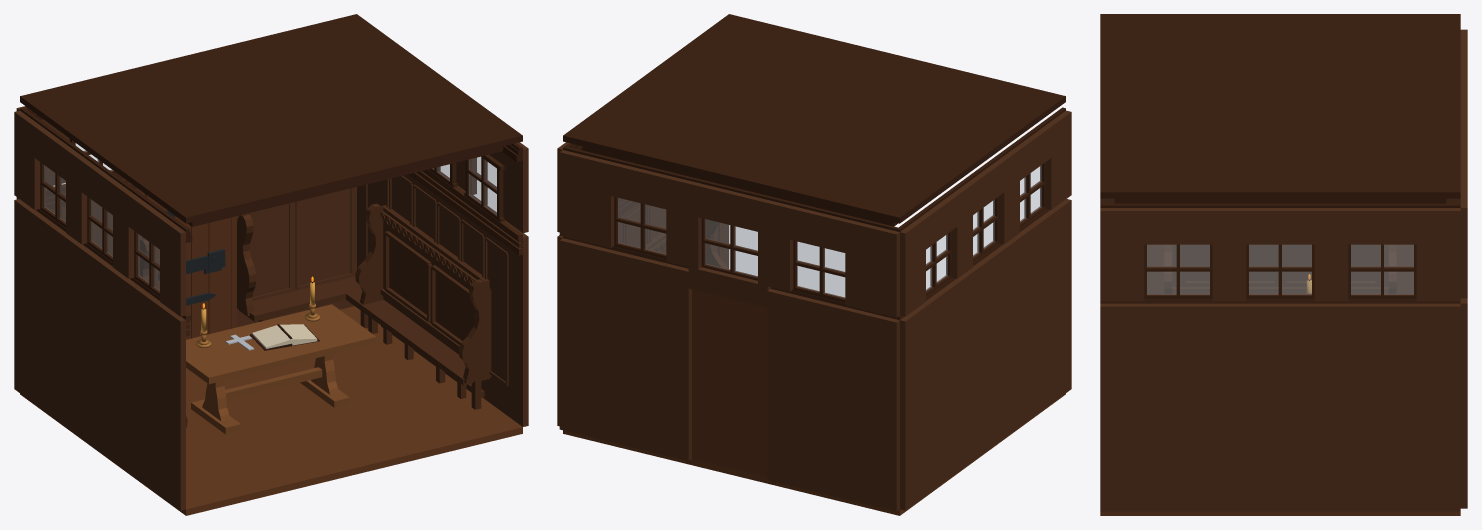
The model's file is realm-mvp-sanctuary-v1-raw-r2.glb.
3 views of the same model, side by side, from view 1: azimuth 30°, elevation 25°; view 2: azimuth 150°, elevation 25°; view 3: azimuth 270°, elevation 25° (orthographic). The views are drawn at different scales.
Parts seen in each view (by area): view 1: HF01_Ceiling__CeilingBase, HF01_RoomShell__Wall_West_Lower, HF01_Floor__Floor, HF01_RoomShell__Wall_East_Lower, HF01_RoomShell__NorthLower_East, HF01_RoomShell, HF01_PrayerTable__Table_Top, HF01_RoomShell__WestUpperHeader, HF01_BenchRight__Bench_East_Backboard, HF01_DoorStaticWorld__Door_North_Slab, HF01_Ceiling, HF01_BenchRight__Bench_East_Seat (+19 smaller); view 2: HF01_Ceiling__CeilingBase, HF01_RoomShell__Wall_West_Lower, HF01_RoomShell__NorthLower_West, HF01_RoomShell__NorthLower_East, HF01_RoomShell, HF01_DoorStaticWorld__Door_North_Slab, HF01_RoomShell__NorthUpperHeader, HF01_RoomShell__WestUpperHeader, HF01_Ceiling, HF01_Clerestory__Window_North_Center_Glass, HF01_RoomShell__NorthDoor_LowerHeader, HF01_Floor__Floor (+7 smaller); view 3: HF01_RoomShell__Wall_East_Lower, HF01_Ceiling__CeilingBase, HF01_RoomShell__EastUpperHeader, HF01_RoomShell, HF01_BenchLeft__Bench_West_Backboard, HF01_Ceiling, HF01_Clerestory__Window_East_00_Glass, HF01_Clerestory__Window_East_01_Glass, HF01_Clerestory__Window_East_02_Glass, HF01_Floor__Floor, HF01_RoomShell__Wall_West_Lower, HF01_RoomShell__NorthUpperHeader (+6 smaller).
Part boxes in pixels (bbox=[...]): HF01_Ceiling__CeilingBase: bbox=[20, 14, 522, 223]; HF01_RoomShell__Wall_West_Lower: bbox=[14, 199, 185, 510]; HF01_Floor__Floor: bbox=[20, 306, 522, 515]; HF01_RoomShell__Wall_East_Lower: bbox=[357, 174, 528, 426]; HF01_RoomShell__NorthLower_East: bbox=[237, 187, 356, 327]; HF01_RoomShell: bbox=[14, 132, 528, 316]; HF01_PrayerTable__Table_Top: bbox=[186, 304, 376, 384]; HF01_RoomShell__WestUpperHeader: bbox=[14, 110, 185, 264]; HF01_BenchRight__Bench_East_Backboard: bbox=[381, 205, 489, 354]; HF01_DoorStaticWorld__Door_North_Slab: bbox=[152, 199, 230, 339]; HF01_Ceiling: bbox=[20, 107, 522, 242]; HF01_BenchRight__Bench_East_Seat: bbox=[360, 300, 489, 385]; HF01_Ceiling__CeilingBase: bbox=[563, 14, 1065, 223]; HF01_RoomShell__Wall_West_Lower: bbox=[900, 199, 1071, 510]; HF01_RoomShell__NorthLower_West: bbox=[767, 289, 899, 511]; HF01_RoomShell__NorthLower_East: bbox=[559, 238, 691, 460]; HF01_RoomShell: bbox=[557, 143, 1071, 317]; HF01_DoorStaticWorld__Door_North_Slab: bbox=[692, 289, 767, 476]; HF01_RoomShell__NorthUpperHeader: bbox=[559, 150, 899, 265]; HF01_RoomShell__WestUpperHeader: bbox=[900, 110, 1071, 264]; HF01_Ceiling: bbox=[563, 107, 1065, 231]; HF01_Clerestory__Window_North_Center_Glass: bbox=[705, 219, 757, 276]; HF01_RoomShell__NorthDoor_LowerHeader: bbox=[688, 267, 770, 307]; HF01_Floor__Floor: bbox=[563, 393, 1065, 515]; HF01_RoomShell__Wall_East_Lower: bbox=[1100, 303, 1460, 511]; HF01_Ceiling__CeilingBase: bbox=[1100, 14, 1460, 198]; HF01_RoomShell__EastUpperHeader: bbox=[1100, 208, 1460, 244]; HF01_RoomShell: bbox=[1100, 241, 1467, 301]; HF01_BenchLeft__Bench_West_Backboard: bbox=[1172, 244, 1388, 287]; HF01_Ceiling: bbox=[1100, 198, 1460, 207]; HF01_Clerestory__Window_East_00_Glass: bbox=[1147, 245, 1209, 294]; HF01_Clerestory__Window_East_01_Glass: bbox=[1249, 245, 1311, 294]; HF01_Clerestory__Window_East_02_Glass: bbox=[1351, 245, 1413, 294]; HF01_Floor__Floor: bbox=[1100, 511, 1460, 515]; HF01_RoomShell__Wall_West_Lower: bbox=[1100, 198, 1452, 293]; HF01_RoomShell__NorthUpperHeader: bbox=[1460, 29, 1467, 241].
Bounding box in the file's own units: 9.92 × 8.12 × 8.36.
